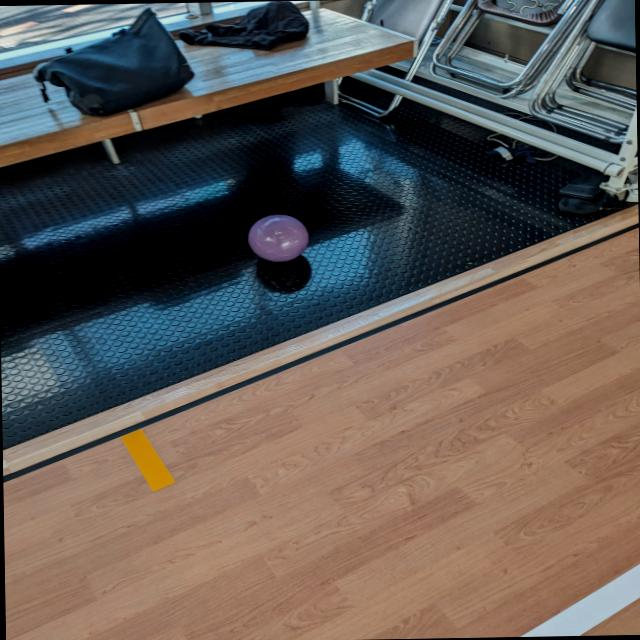purple_ball: (246, 212, 313, 264)
